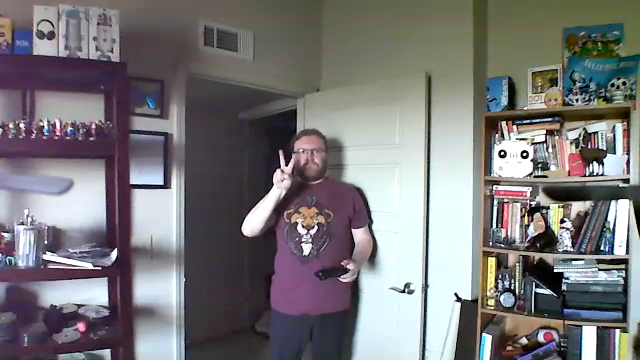peace: (268, 147, 301, 196)
